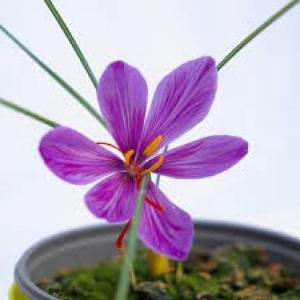Saffron: (55, 63, 245, 256)
